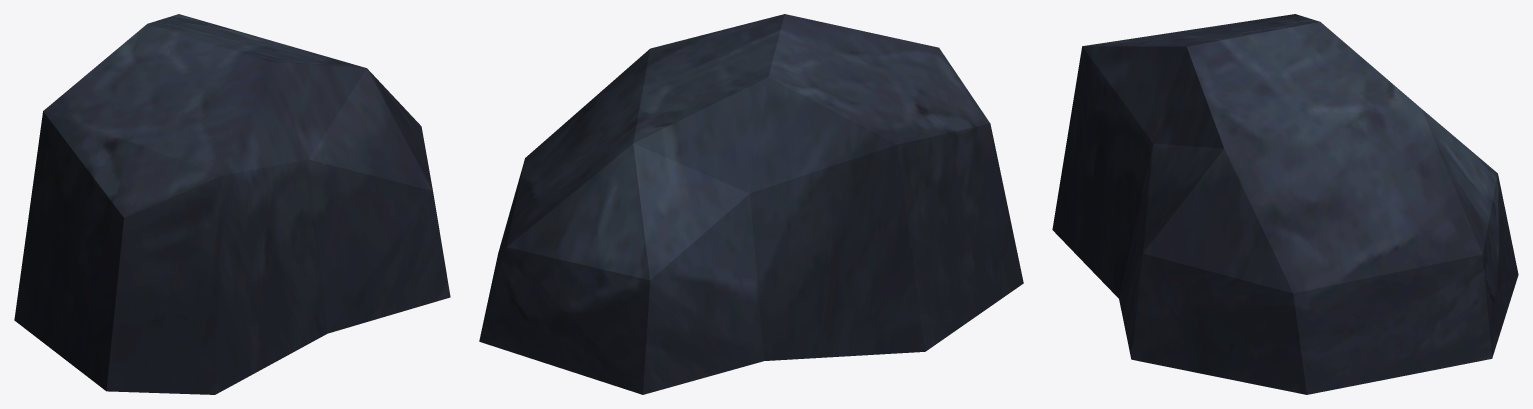
Rendered from mine_rock_04.fbx.
The picture shows the model from 3 angles, left to right: view 1: azimuth 30°, elevation 25°; view 2: azimuth 150°, elevation 25°; view 3: azimuth 270°, elevation 25°; orthographic projection. The views are drawn at different scales.
Parts seen in each view (by area): view 1: mine_tileset/rubble_rocks_01_shadow; view 2: mine_tileset/rubble_rocks_01_shadow; view 3: mine_tileset/rubble_rocks_01_shadow.
Boxes of the visible parts, x1=… form: mine_tileset/rubble_rocks_01_shadow: x1=14, y1=14, x2=450, y2=394; mine_tileset/rubble_rocks_01_shadow: x1=479, y1=14, x2=1023, y2=394; mine_tileset/rubble_rocks_01_shadow: x1=1052, y1=14, x2=1518, y2=394.
Size of the model in its own units: 1.24 by 0.6912 by 1.21.
